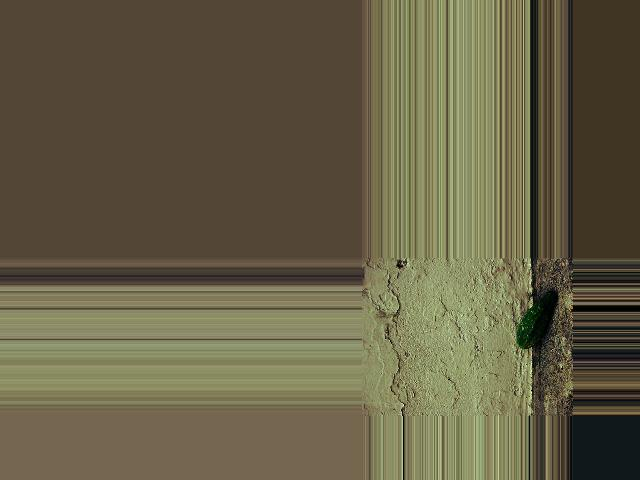cucumber: (515, 292, 556, 349)
